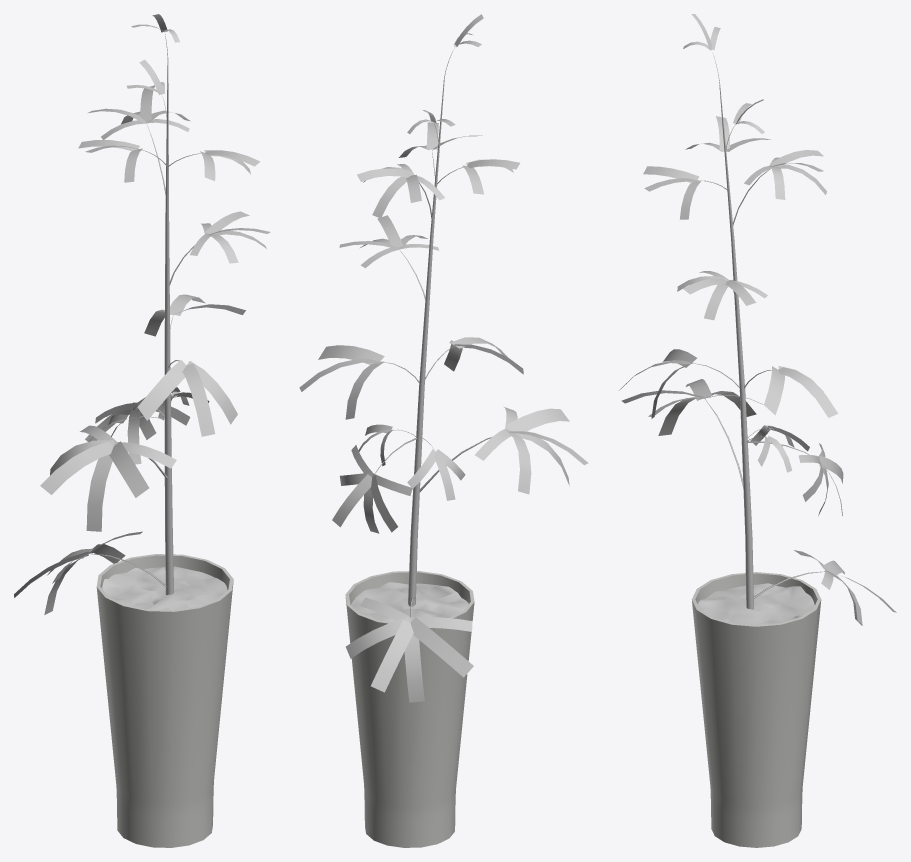
The model's file is SmallWhitePots001.FBX.
3 views of the same model, side by side, from view 1: azimuth 30°, elevation 25°; view 2: azimuth 150°, elevation 25°; view 3: azimuth 270°, elevation 25° (orthographic). The views are drawn at different scales.
Parts seen in each view (by area): view 1: SmallWhitePots001; view 2: SmallWhitePots001; view 3: SmallWhitePots001.
Boxes of the visible parts, x1,y1,x2,y2 form: SmallWhitePots001: [14, 14, 270, 847]; SmallWhitePots001: [299, 14, 588, 847]; SmallWhitePots001: [619, 14, 896, 847].
Size of the model in its own units: 0.5263 by 1.76 by 0.561.
